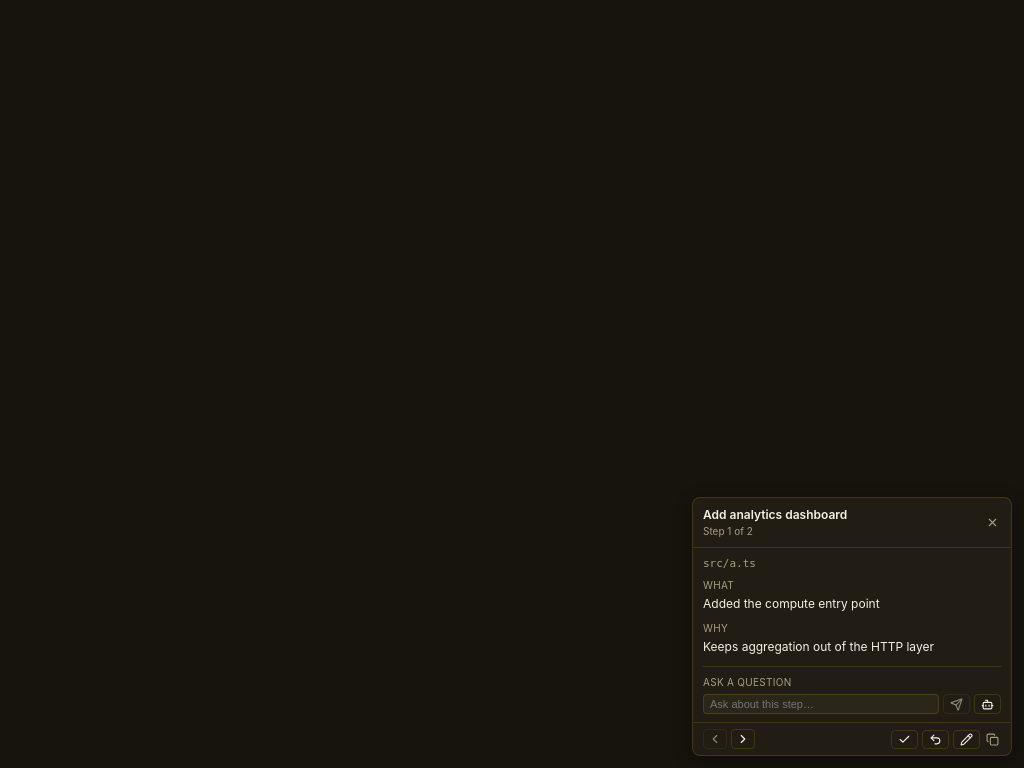
Test: TourCard › discards after confirmation and records the 'discarded' decision
The image size is (1024, 768).
Expected: the text "Step 1 of 2" is shown, 703,524 -> 753,536
Click the button named "discard step": (936, 739) 922,730 -> 949,748
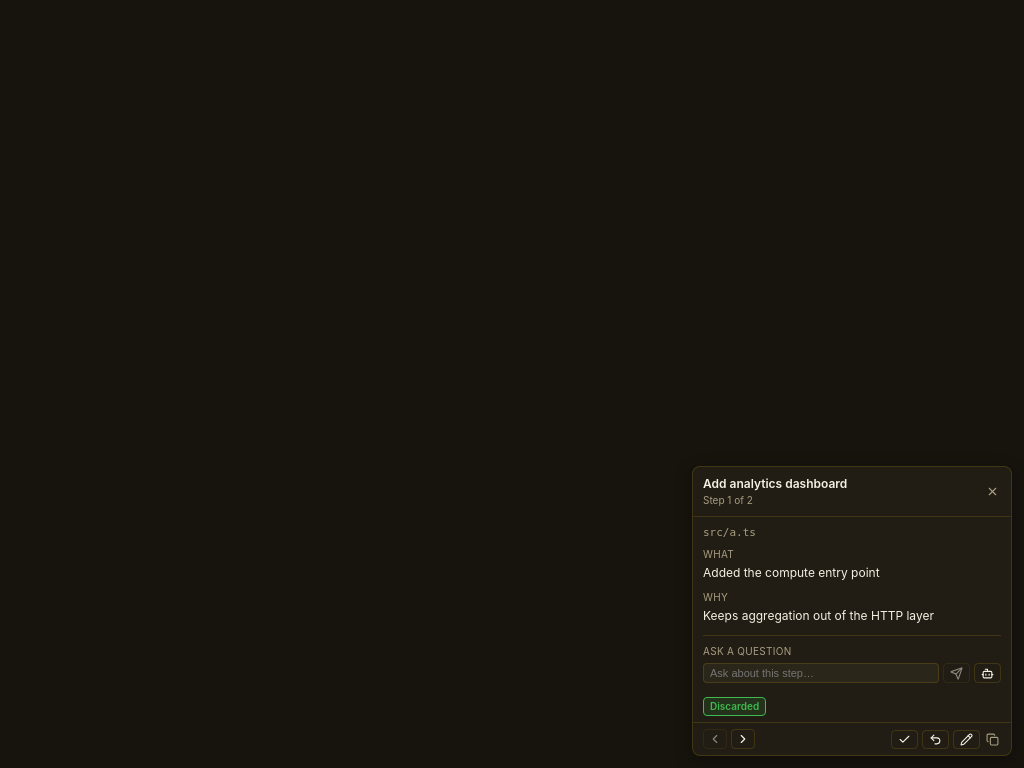
Expected: the text "Discarded" is shown, 703,697 -> 766,716
